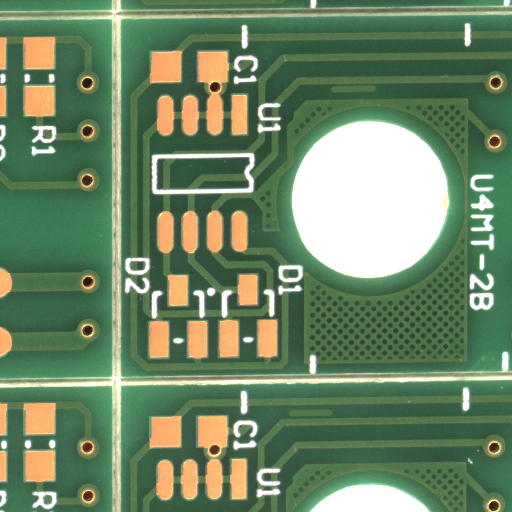Spurious_copper: (353, 88, 402, 99), (310, 413, 356, 423)
